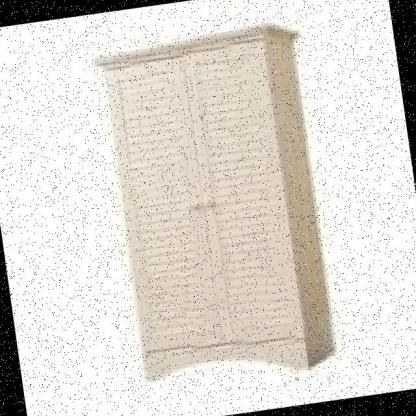Closet: (87, 11, 352, 396)
